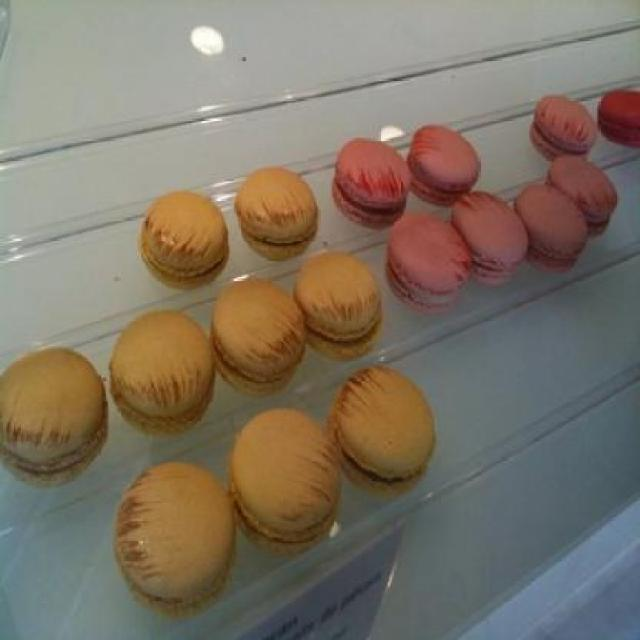Macaron: (1, 95, 639, 614)
